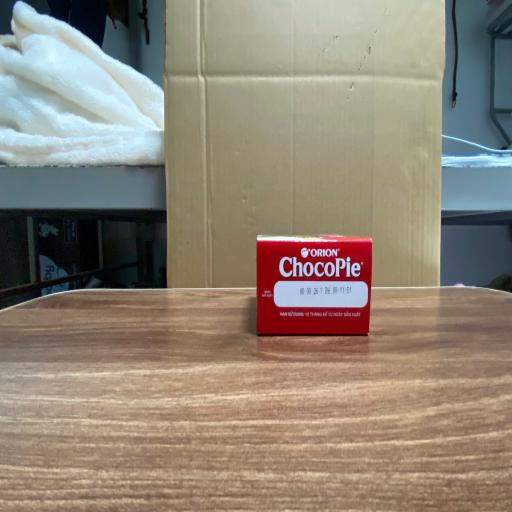chocopie: (257, 236, 371, 336)
